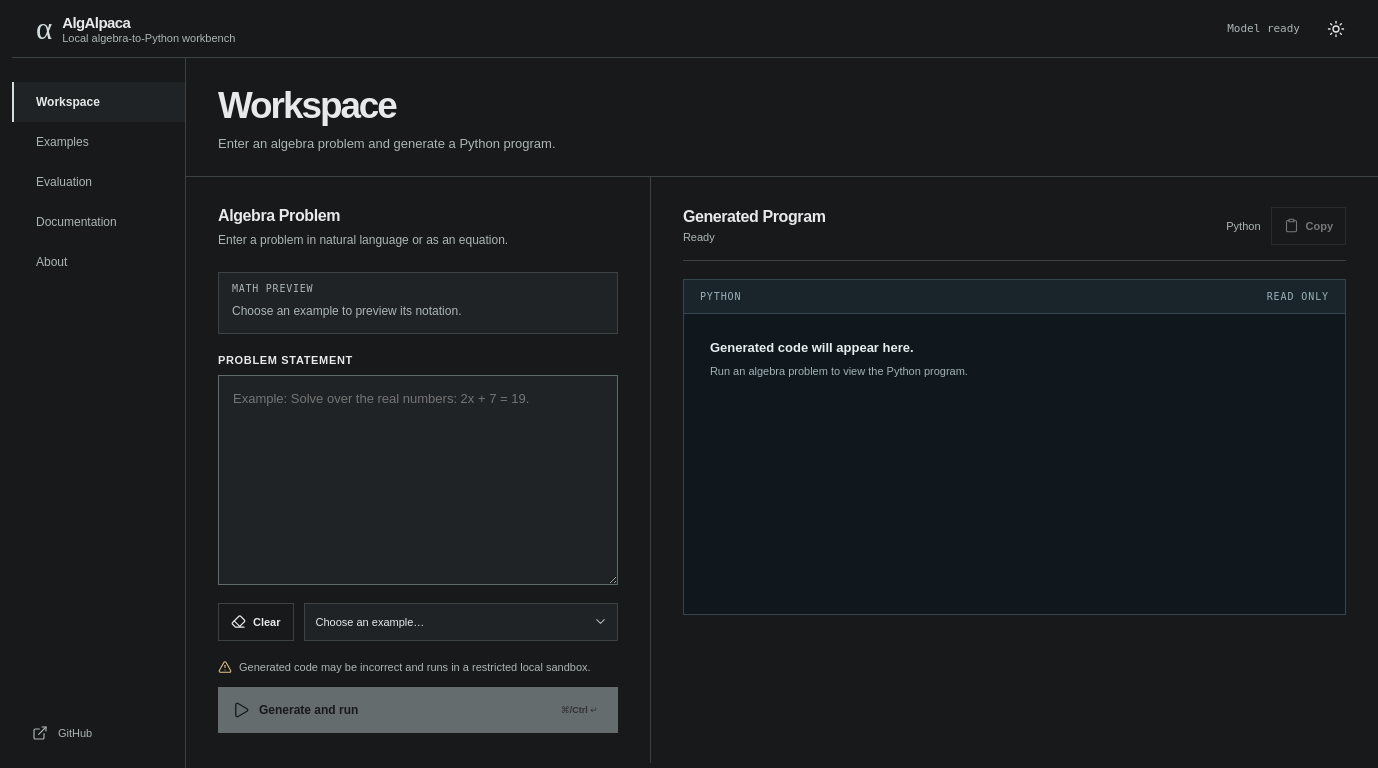
Test: simplified Workbench › renders clear output state 0
Type "Solve x + 2 = 5." into the text box labelled "Problem statement" at [418, 480], box [218,375,618,585]
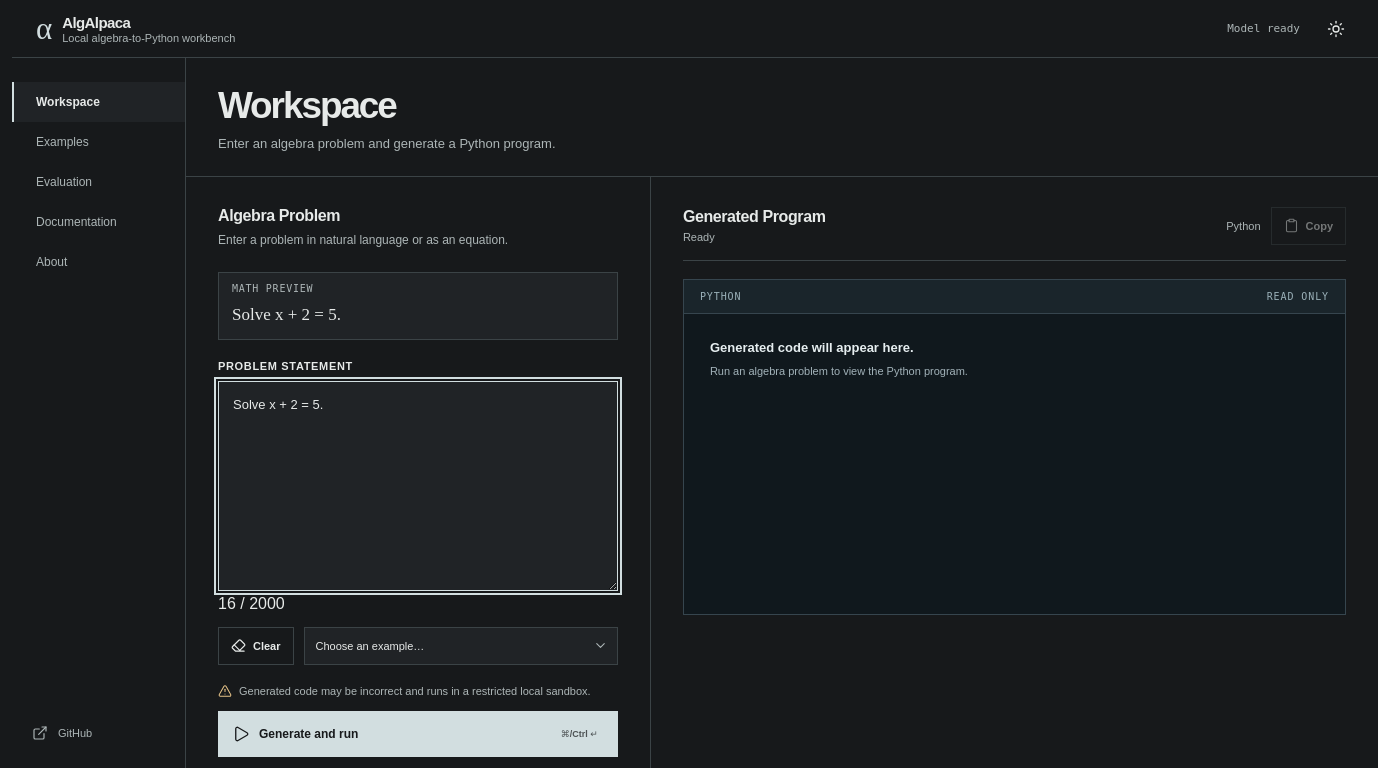
Click the button "Generate and run ⌘/Ctrl ↵" at [309, 734], box [218,711,618,757]
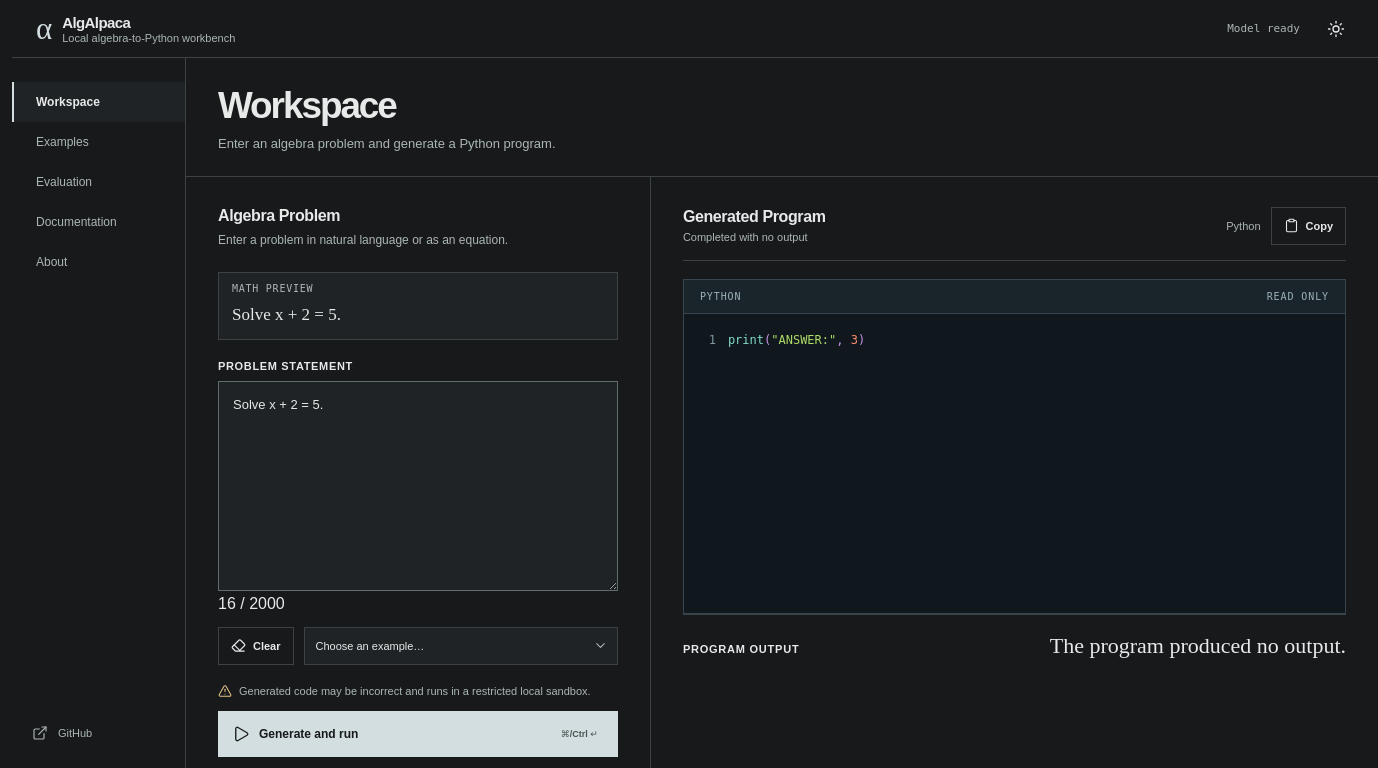
Check: the text "The program produced no output." is shown, box [1050,633,1346,658]
Check: the text "Completed with no output" is shown, box [683,231,808,243]
